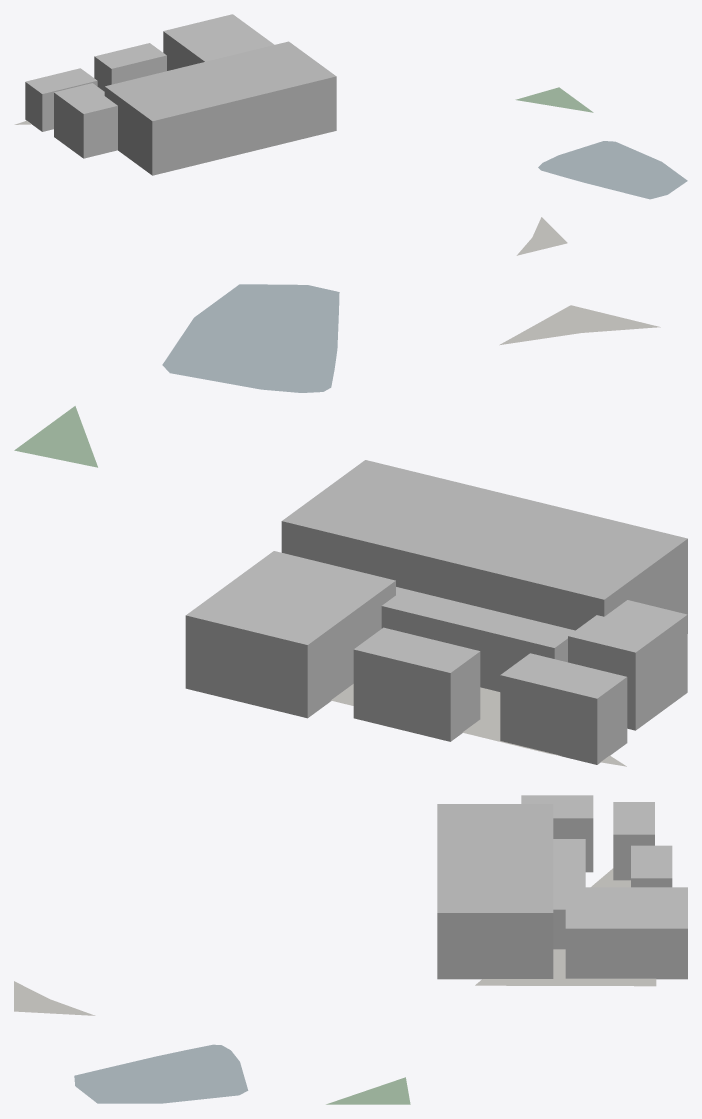
File: 129_115_mid.glb
3 renders of one model, top to bottom at view 1: azimuth 30°, elevation 25°; view 2: azimuth 150°, elevation 25°; view 3: azimuth 270°, elevation 25°, orthographic. The views are drawn at different scales.
Bounding box in the file's own units: 489 × 57.27 × 525.
